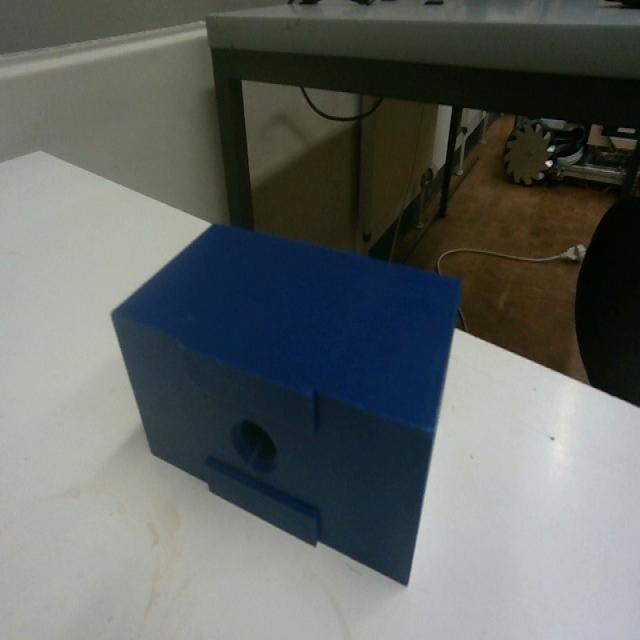Blue Cuboid: (109, 217, 464, 587)
